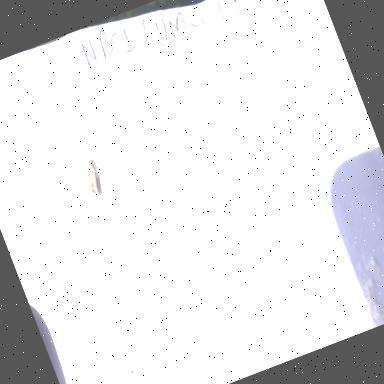pbw: (74, 146, 112, 202)
